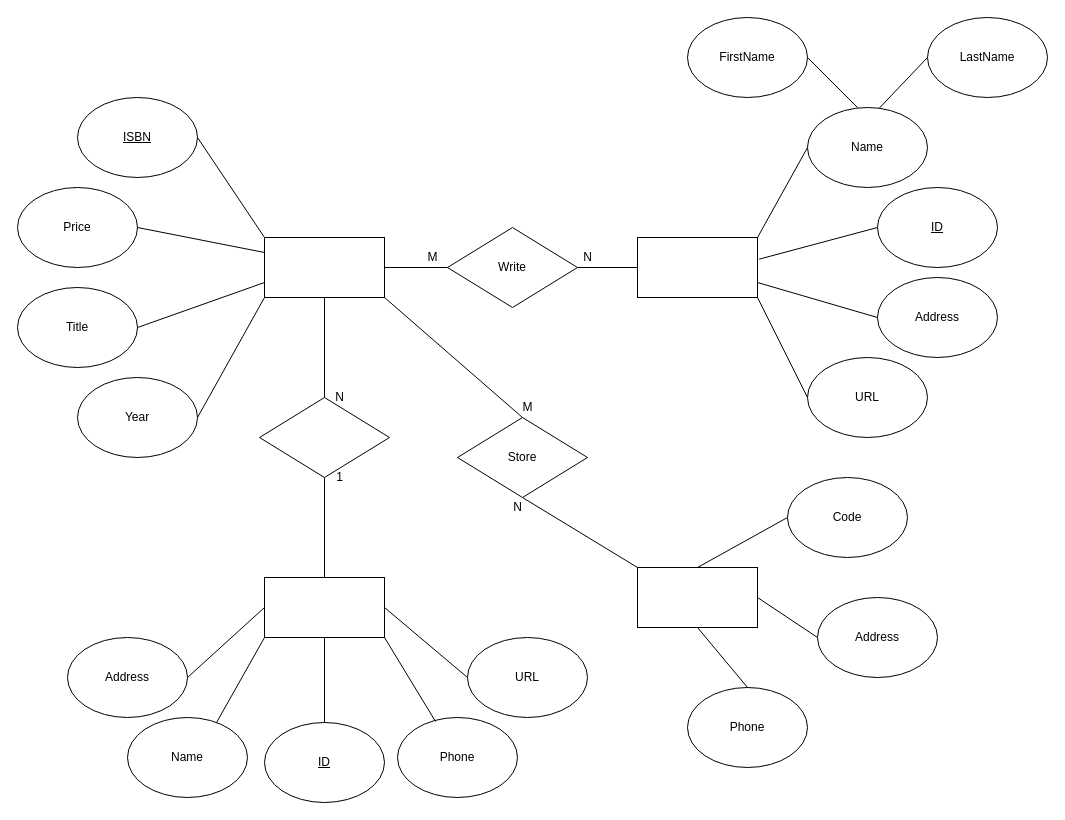
The diagram is 1065 pixels wide and 820 high, and some of its shapes have lost their labels. The box of each missing label's shape, as (x1, y1, x2, y2) in pixels:
Author: (636, 236, 758, 298)
Books: (264, 236, 384, 298)
Publisher: (264, 576, 384, 638)
Publishing: (258, 396, 390, 478)
Warehouse: (636, 566, 758, 628)
